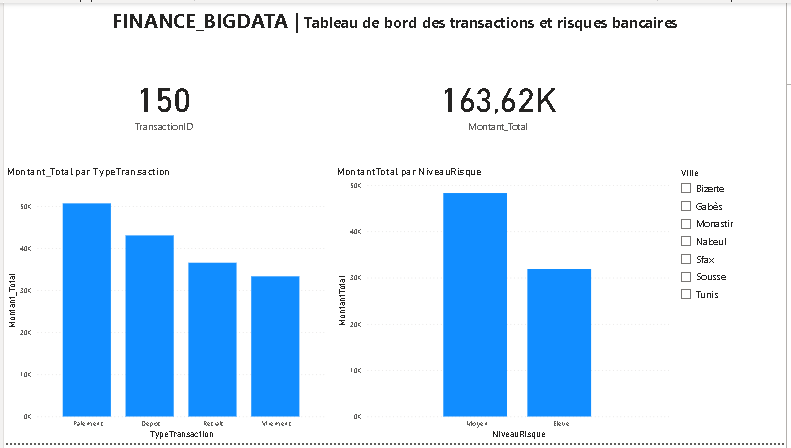

The dashboard page shown, as its layout file describes it:
{"tool":"powerbi","page":{"name":"Page 1","canvas":[1280,720],"ordinal":0},"visuals":[{"type":"card","fields":{"Values":["CountNonNull(transactions_enrichies.TransactionID)"]},"box":[0,82.8,522.7,160.4],"z":0},{"type":"card","fields":{"Values":["transactions_enrichies.Montant_Total"]},"box":[522.7,82.8,572.7,160.4],"z":1},{"type":"clusteredColumnChart","fields":{"Category":["transactions_enrichies.TypeTransaction"],"Y":["transactions_enrichies.Montant_Total"]},"box":[0,265.7,533,453.7],"z":2},{"type":"clusteredColumnChart","fields":{"Category":["rapport_risques_clients.NiveauRisque"],"Y":["Sum(rapport_risques_clients.MontantTotal)"]},"box":[539.9,265.7,555.5,453.7],"z":3},{"type":"slicer","fields":{"Values":["transactions_enrichies.Ville"]},"box":[1095.4,265.7,184.6,453.7],"z":4},{"type":"textbox","box":[0,0,1280,82.8],"z":5}]}

Visuals, with their boxes in screenshot pixels (x1, y1, x2, y2), scaled from the page's 1280x720 canvas onto the 791x448 screenshot:
card - CountNonNull(transactions_enrichies.TransactionID): rect(0, 52, 323, 151)
card - transactions_enrichies.Montant_Total: rect(323, 52, 677, 151)
clusteredColumnChart - transactions_enrichies.TypeTransaction x transactions_enrichies.Montant_Total: rect(0, 165, 329, 447)
clusteredColumnChart - rapport_risques_clients.NiveauRisque x Sum(rapport_risques_clients.MontantTotal): rect(334, 165, 677, 447)
slicer - transactions_enrichies.Ville: rect(677, 165, 790, 447)
textbox: rect(0, 0, 790, 52)
